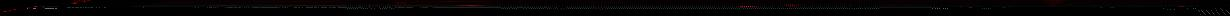Blue cone: (12, 9, 18, 10), (27, 7, 32, 8)
Yellow cone: (782, 4, 804, 7)
